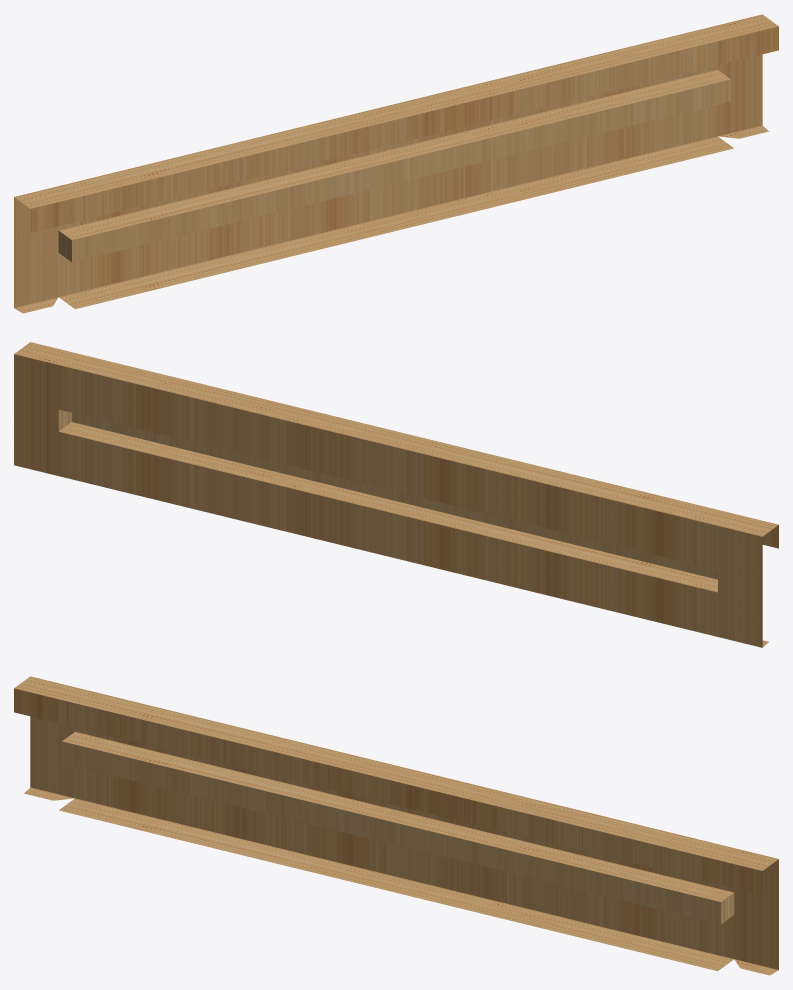
The model's file is plank_voor.obj.
3 views of the same model, one above another, from view 1: azimuth 30°, elevation 25°; view 2: azimuth 150°, elevation 25°; view 3: azimuth 330°, elevation 25° (orthographic).
Parts seen in each view (by area): view 1: Frame_plank_voor; view 2: Frame_plank_voor; view 3: Frame_plank_voor.
Boxes of the visible parts, x1,y1,x2,y2 form: Frame_plank_voor: (14,14,778,313); Frame_plank_voor: (14,342,778,647); Frame_plank_voor: (14,676,778,975).
Size of the model in its own units: 6.44 by 0.9132 by 0.2456.
Materials: 1 (1 with a texture image).
